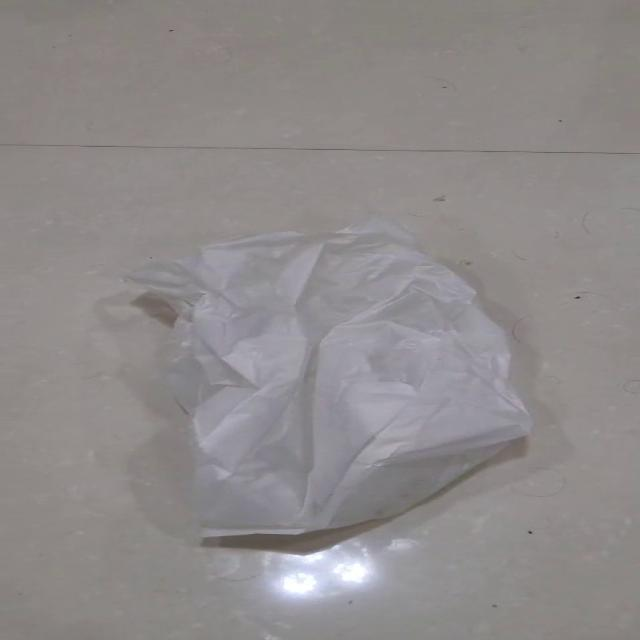plastic: (120, 216, 533, 541)
